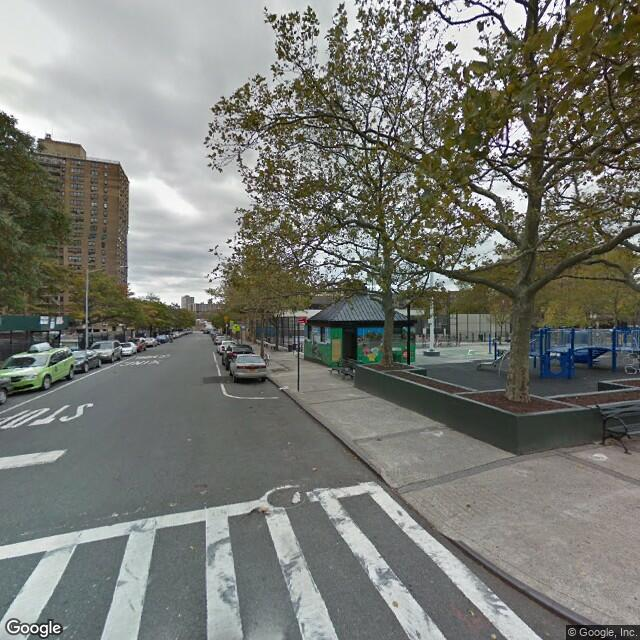litter: (291, 492, 300, 502), (279, 385, 288, 390)
